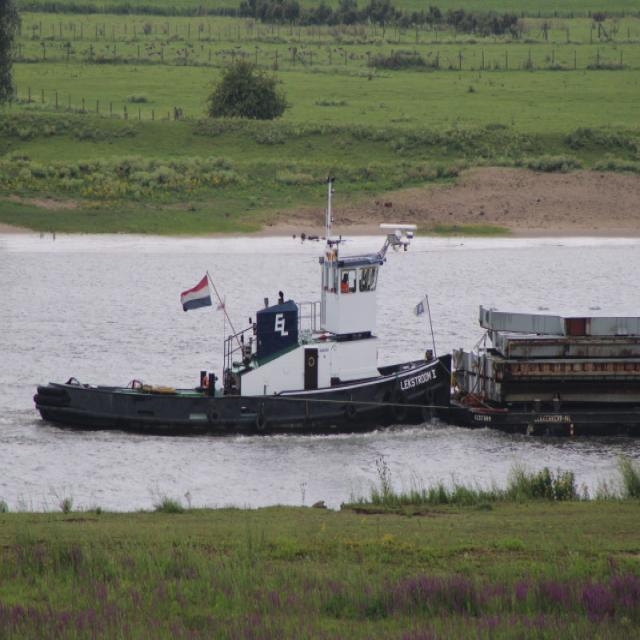tugboat: (30, 219, 472, 447)
